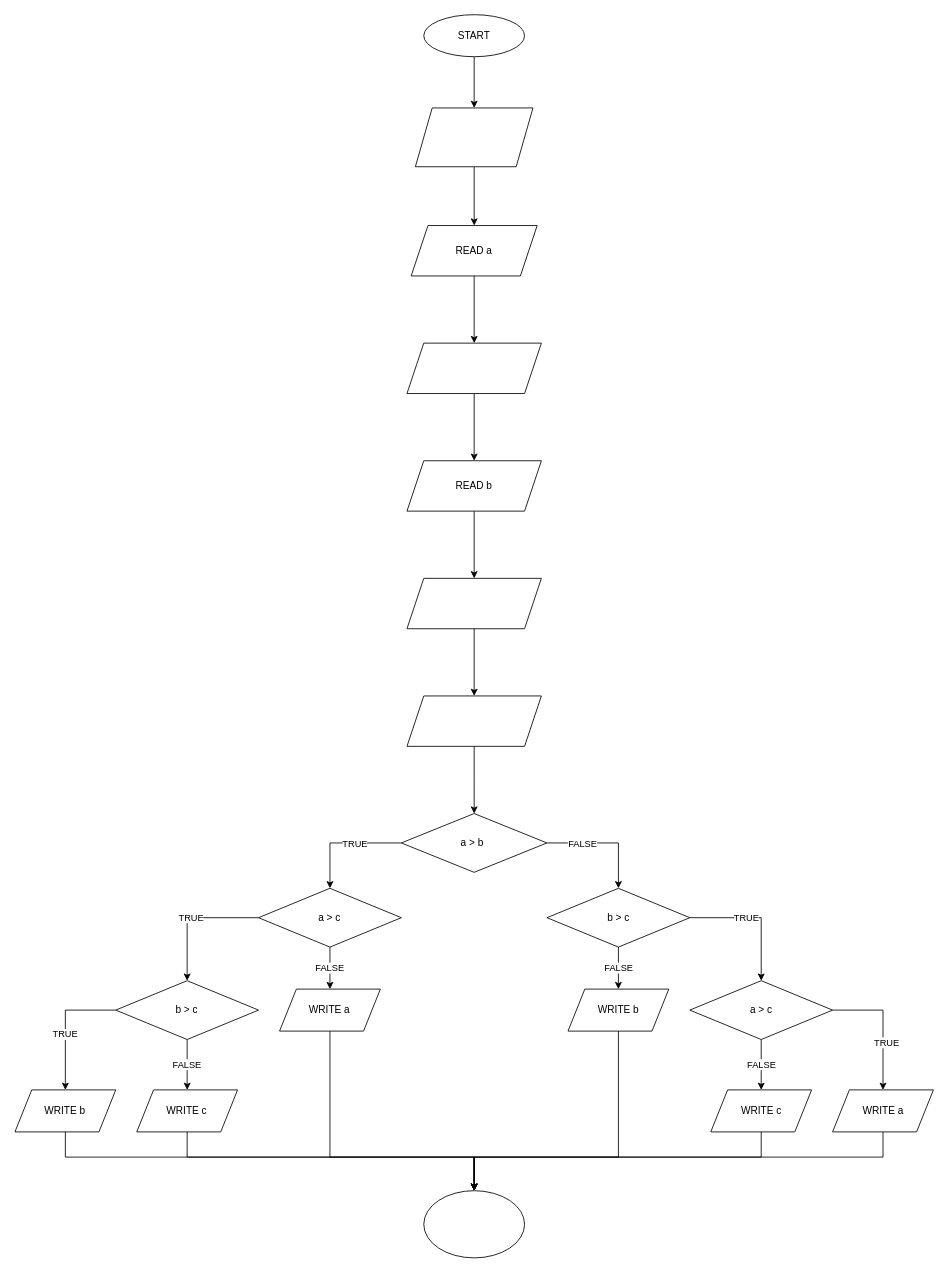
The diagram is 948 pixels wide and 1273 high, and some of its shapes have lost their labels. Each missing label, with the box of its shape:
END: (423, 1190, 525, 1258)
READ c: (406, 695, 541, 746)
WRITE Vul hier het 2de nummer in: (406, 342, 541, 394)
WRITE Vul hier het 3de nummer in: (406, 578, 541, 629)
WRITE Vul hier het eerste nummer in: (415, 107, 533, 167)
